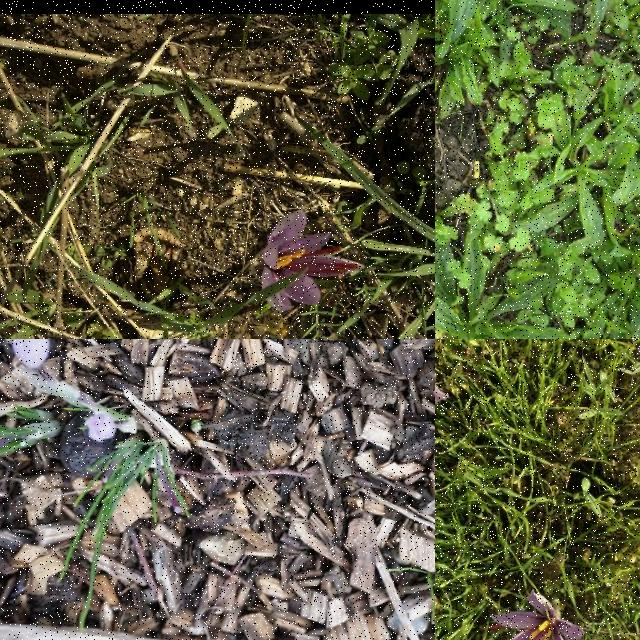flower: (262, 210, 366, 314), (484, 591, 586, 640), (12, 339, 49, 370)
